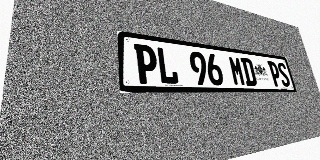6: (205, 53, 225, 85)
9: (188, 51, 210, 85)
D: (240, 57, 258, 86)
L: (156, 46, 179, 85)
M: (228, 56, 246, 86)
P: (134, 44, 159, 84), (267, 61, 283, 87)
S: (276, 62, 291, 87)
